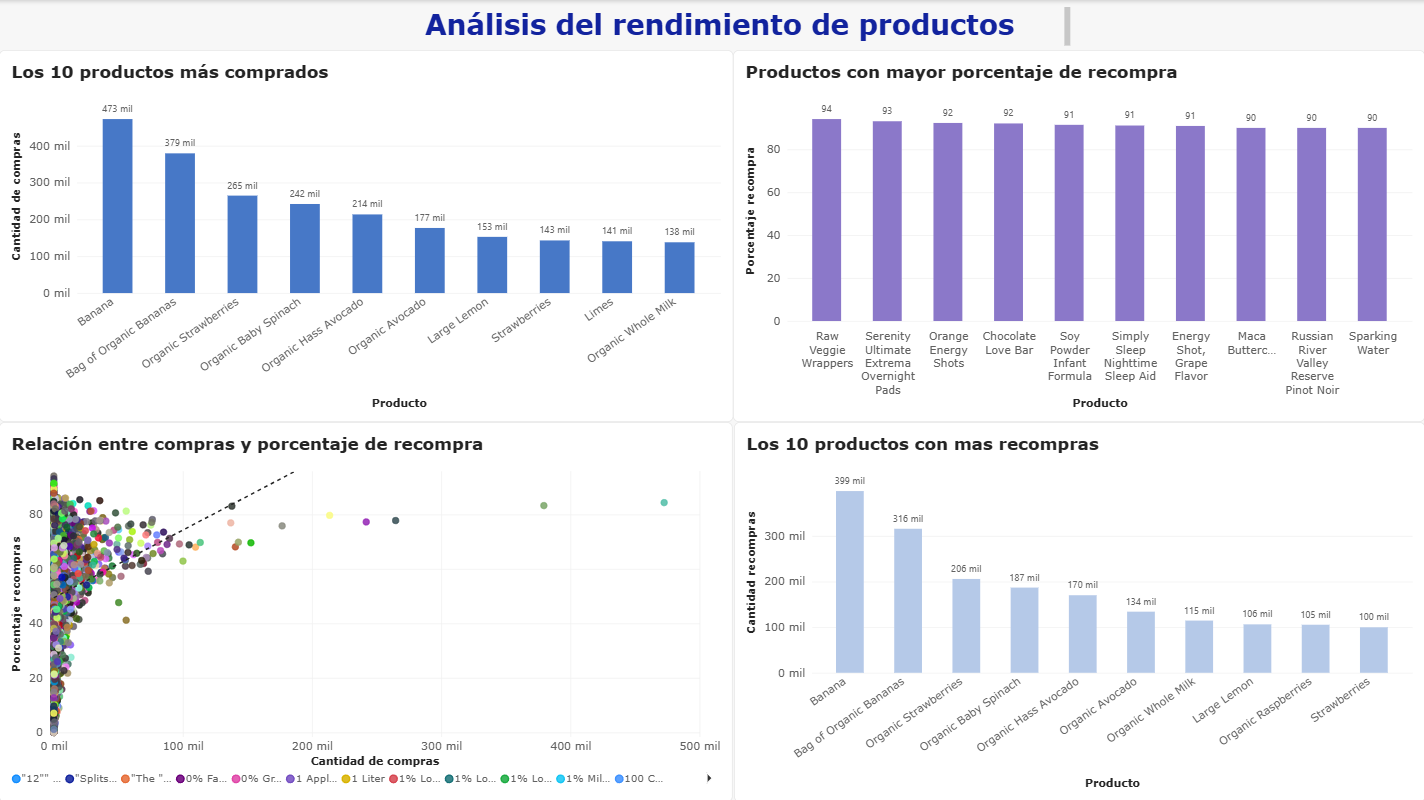

Layout of this report page (visuals, bound fields, positions):
{"tool":"powerbi","page":{"name":"Productos","canvas":[1920,1080],"ordinal":2},"visuals":[{"type":"columnChart","title":"Los 10 productos más comprados","fields":{"Category":["public mart_product_performance (3).nombre_producto"],"Y":["Sum(public mart_product_performance (3).cantidad_compras)"]},"box":[0,67.3,989.2,501.3],"z":0},{"type":"columnChart","title":"Productos con mayor porcentaje de recompra","fields":{"Category":["public mart_product_performance (3).nombre_producto"],"Y":["Avg(public mart_product_performance (3).porcentaje_recompra)"]},"box":[988.4,67.3,931.9,500.9],"z":1000},{"type":"scatterChart","title":"Relación entre compras y porcentaje de recompra","fields":{"Series":["public mart_product_performance (3).nombre_producto"],"X":["Sum(public mart_product_performance (3).cantidad_compras)"],"Y":["public mart_product_performance (3).porcentaje_recompra"]},"box":[0,568.3,988.4,511.7],"z":2000},{"type":"columnChart","title":"Los 10 productos con mas recompras","fields":{"Category":["public mart_product_performance (3).nombre_producto"],"Y":["Sum(public mart_product_performance (3).cantidad_recompras)"]},"box":[989.8,568.3,930.5,511.7],"z":3000},{"type":"textbox","box":[573.7,9.4,868.6,57.9],"z":4000}]}

Visuals, with their boxes in screenshot pixels (x1, y1, x2, y2), scaled from the page's 1920x1080 canvas onto the 1424x800 screenshot:
"Los 10 productos más comprados" columnChart: region(0, 50, 734, 421)
"Productos con mayor porcentaje de recompra" columnChart: region(733, 50, 1423, 421)
"Relación entre compras y porcentaje de recompra" scatterChart: region(0, 421, 733, 799)
"Los 10 productos con mas recompras" columnChart: region(734, 421, 1423, 799)
textbox: region(425, 7, 1070, 50)
